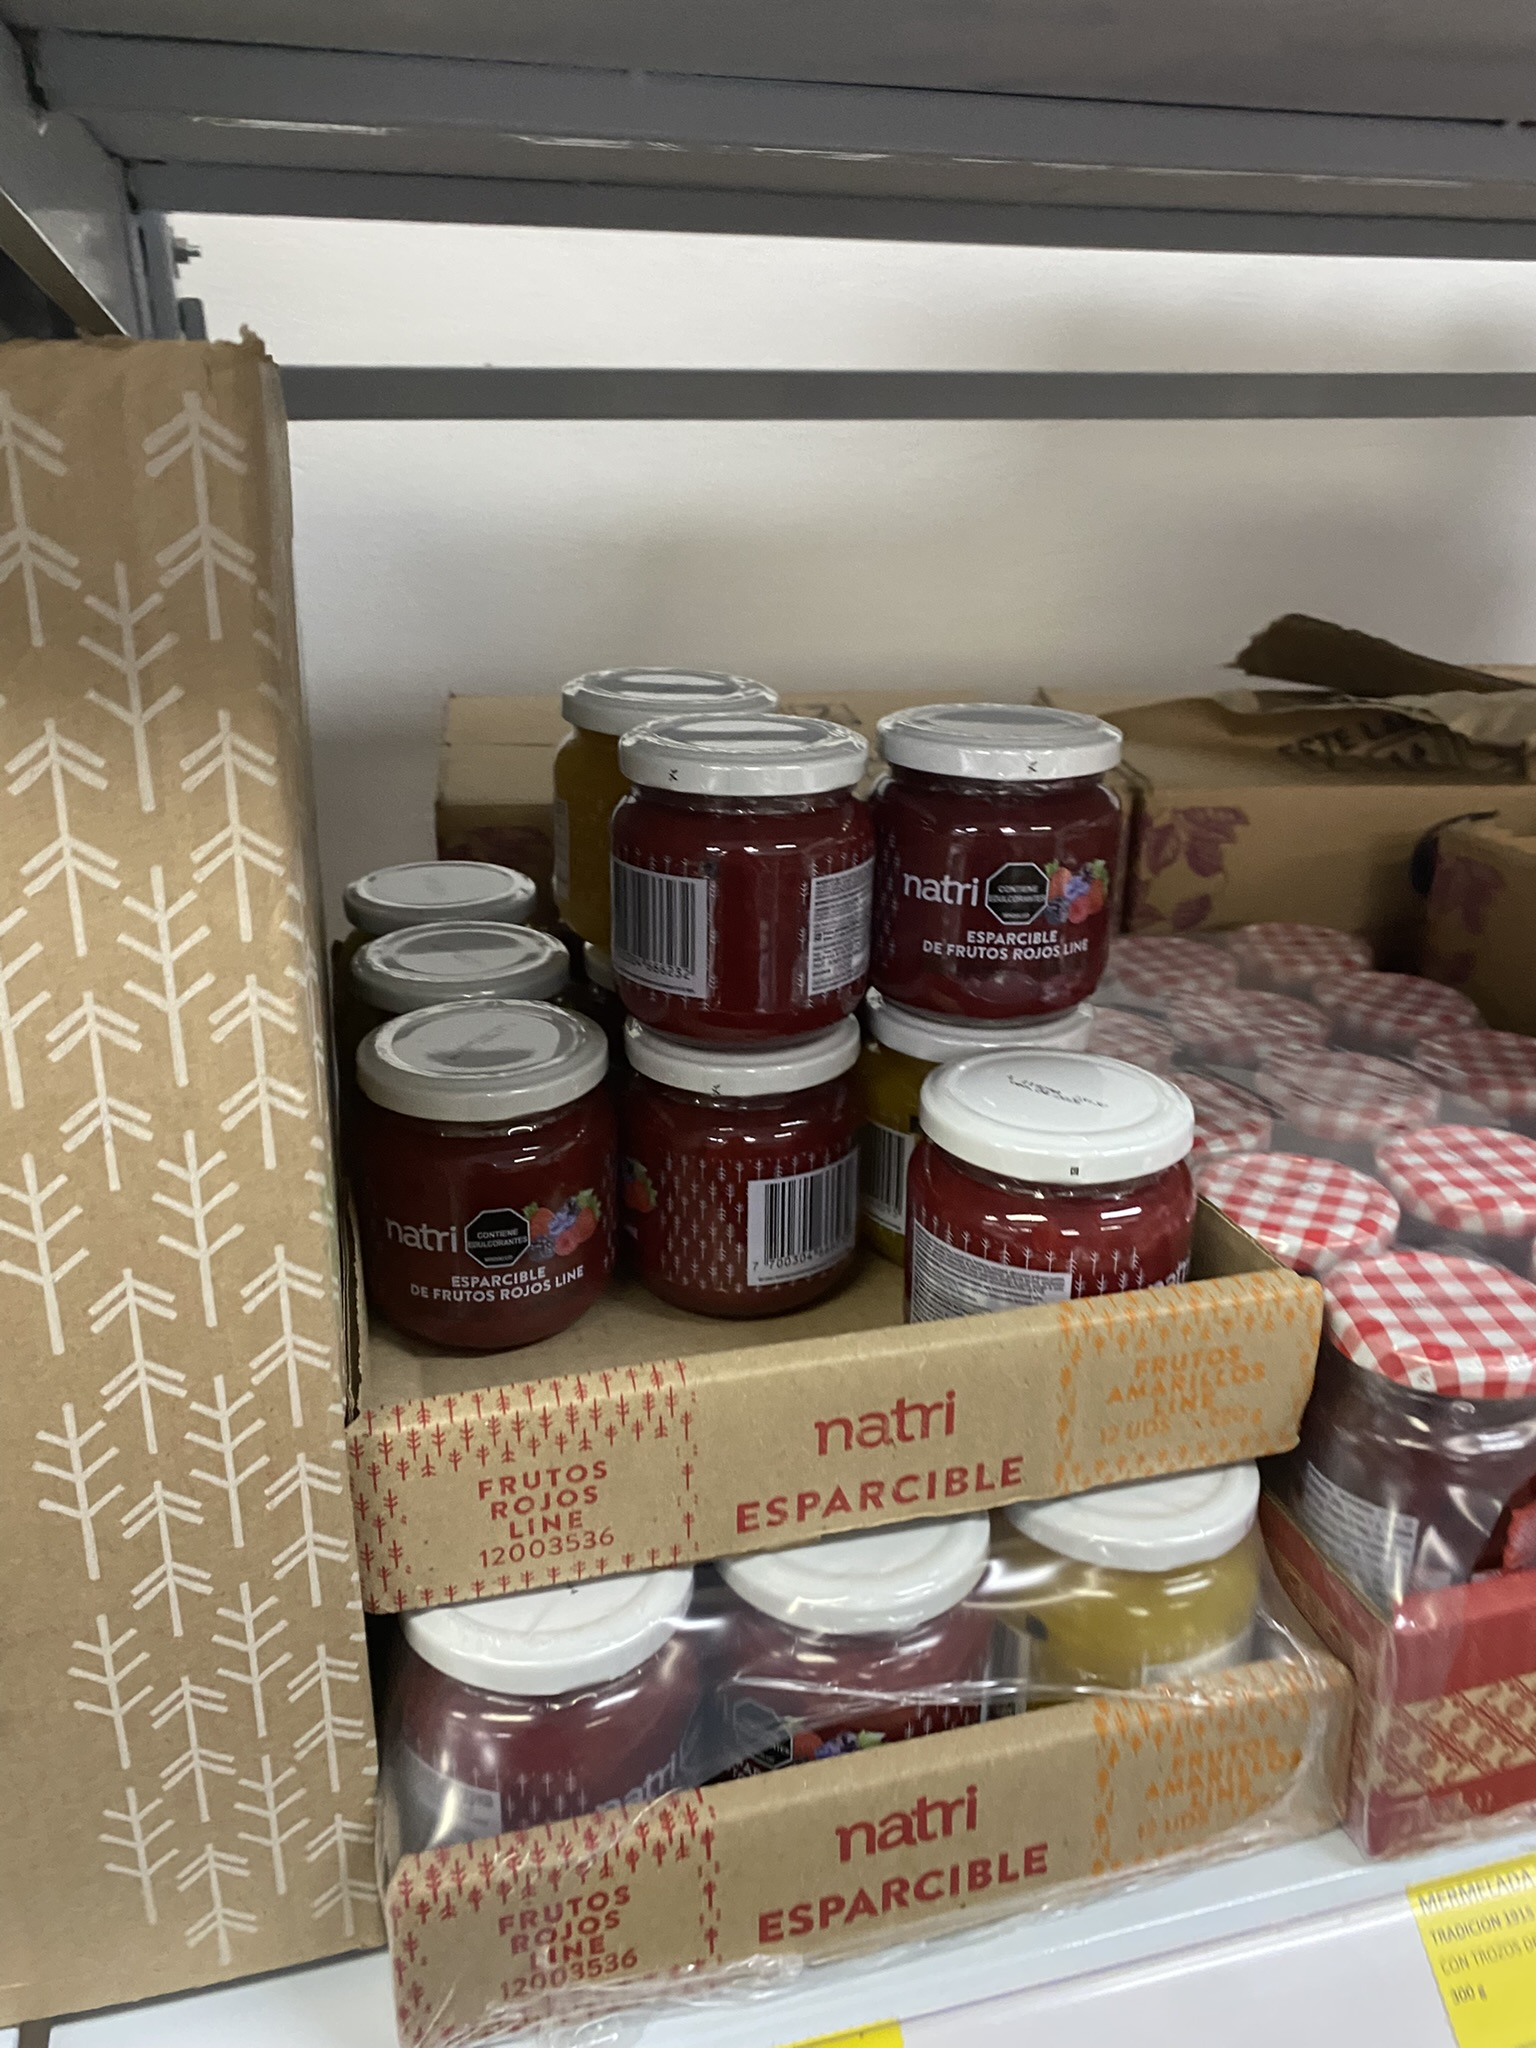Mermelada: (326, 998, 626, 1340), (618, 700, 871, 1026), (883, 708, 1136, 1006), (915, 1043, 1192, 1301), (626, 1034, 862, 1290)
